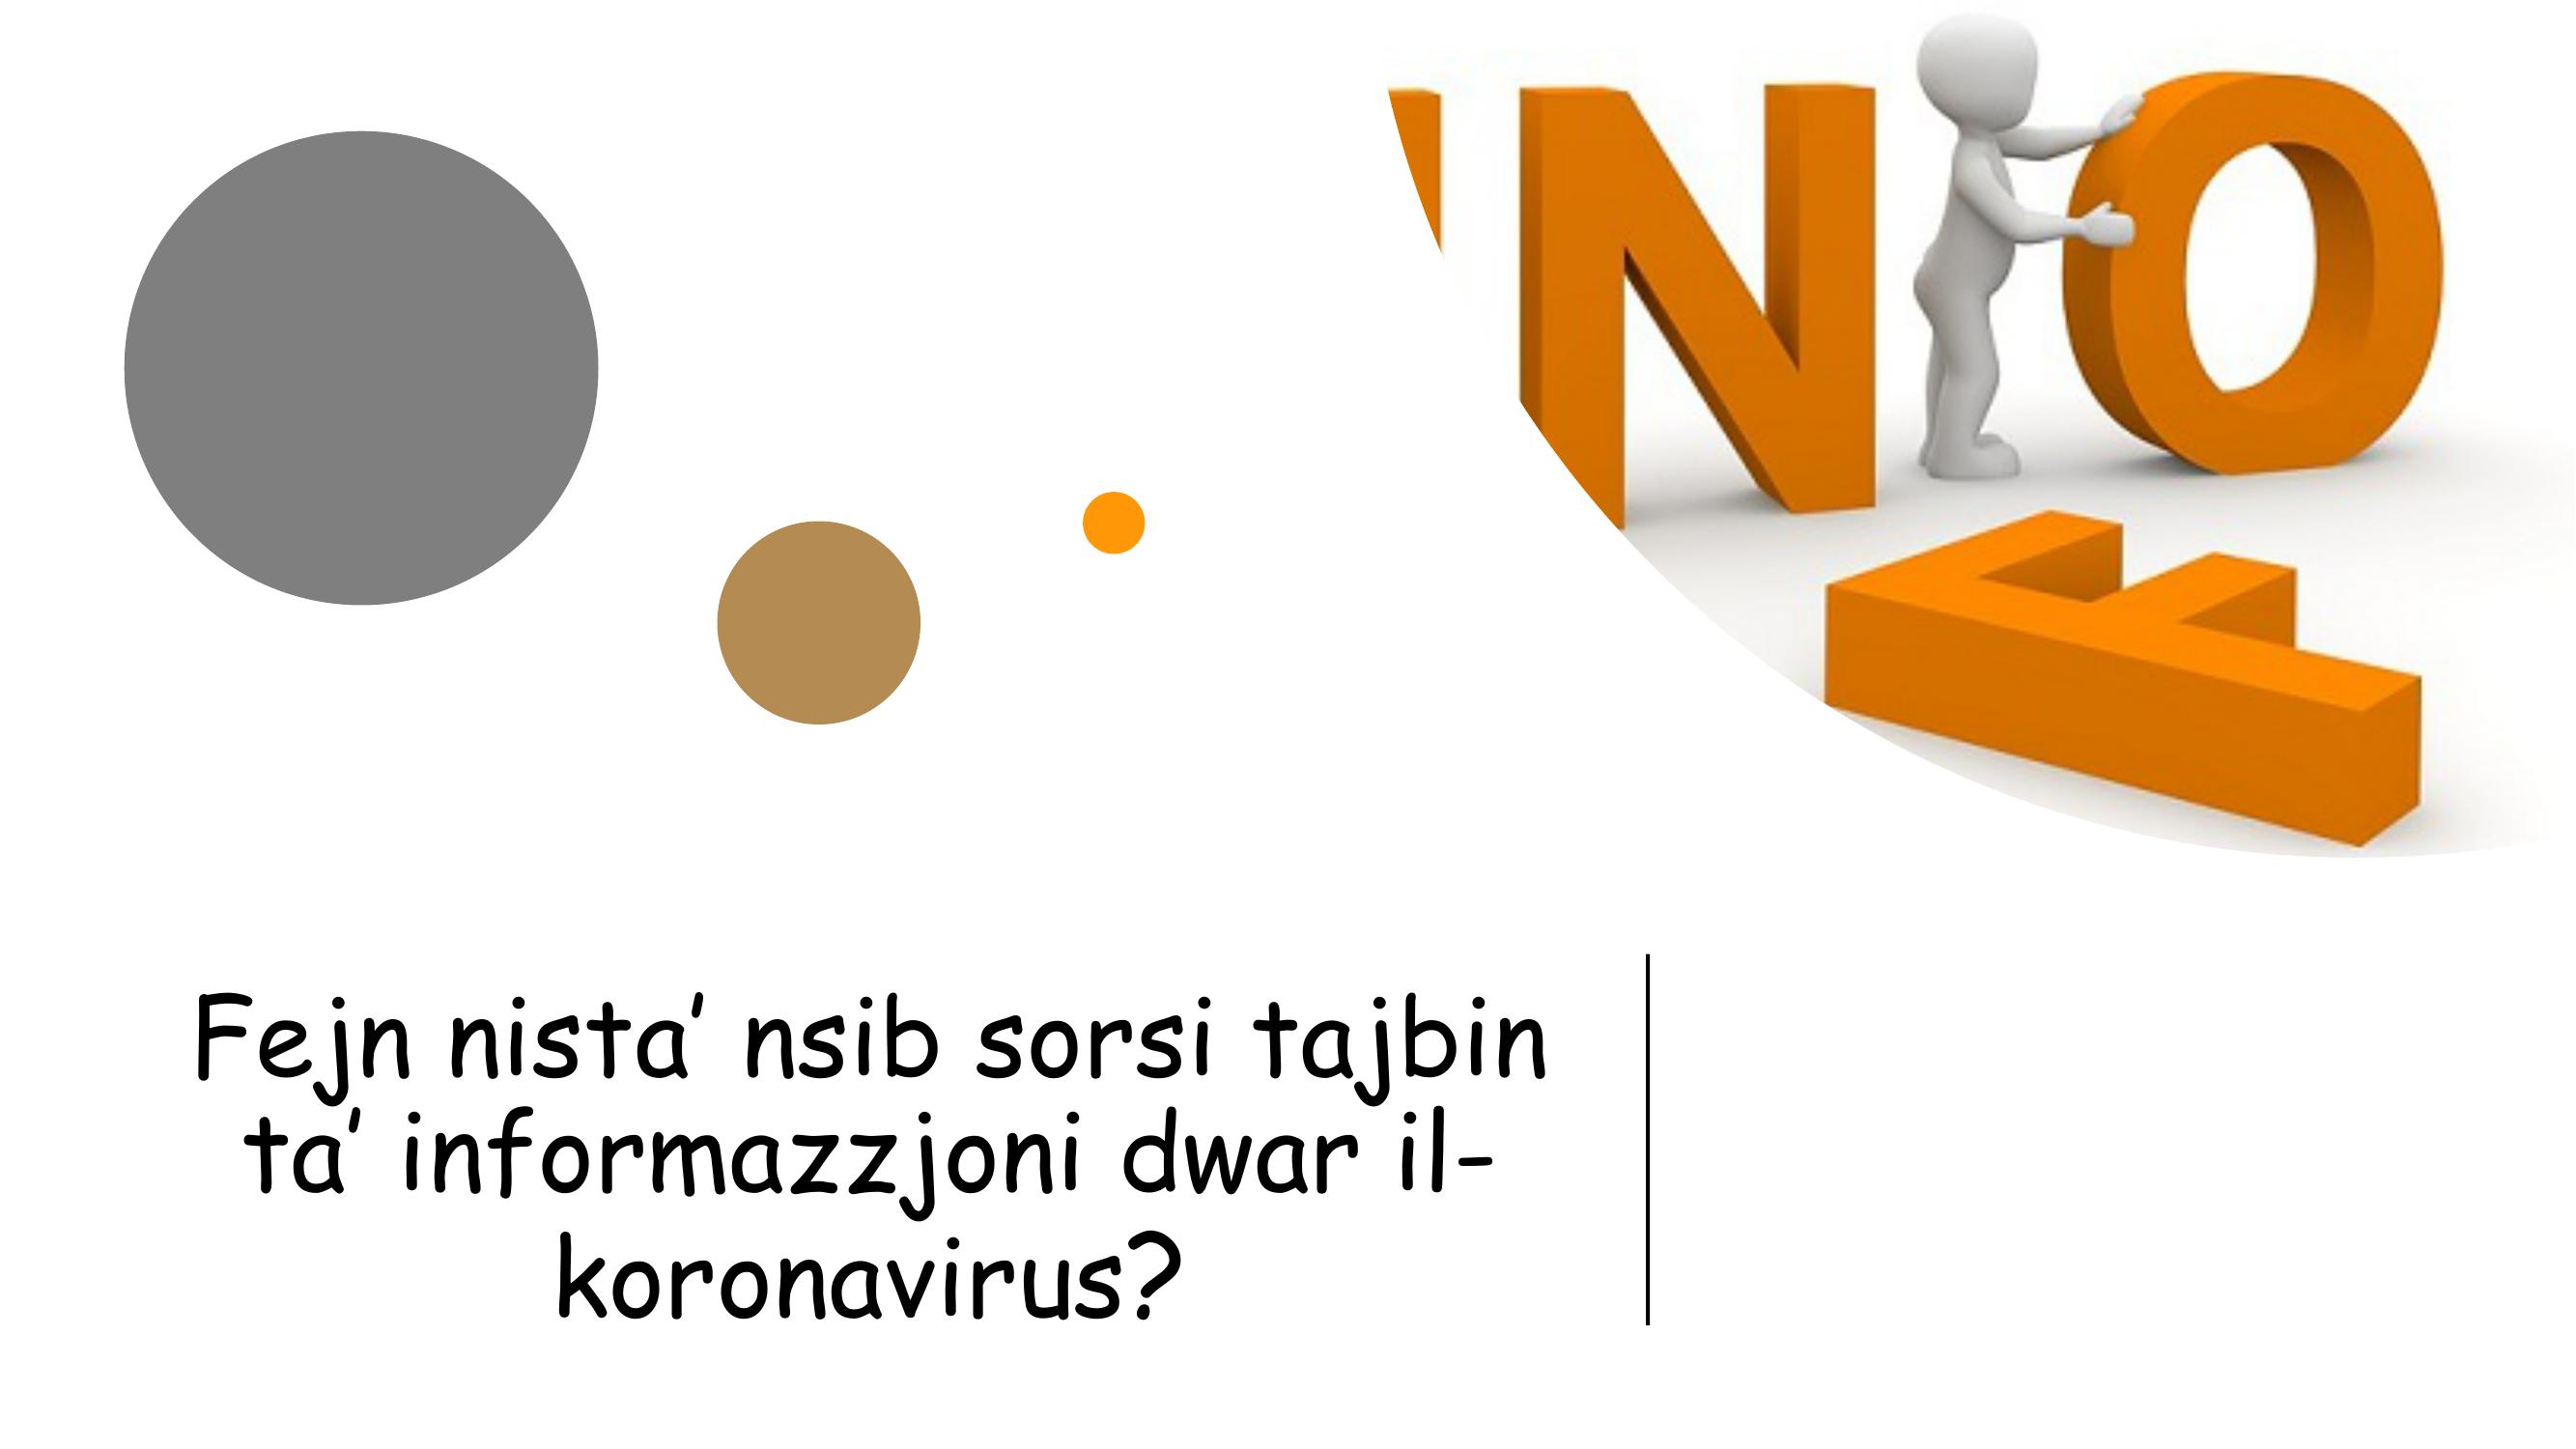text: (154, 948, 1568, 1355)
